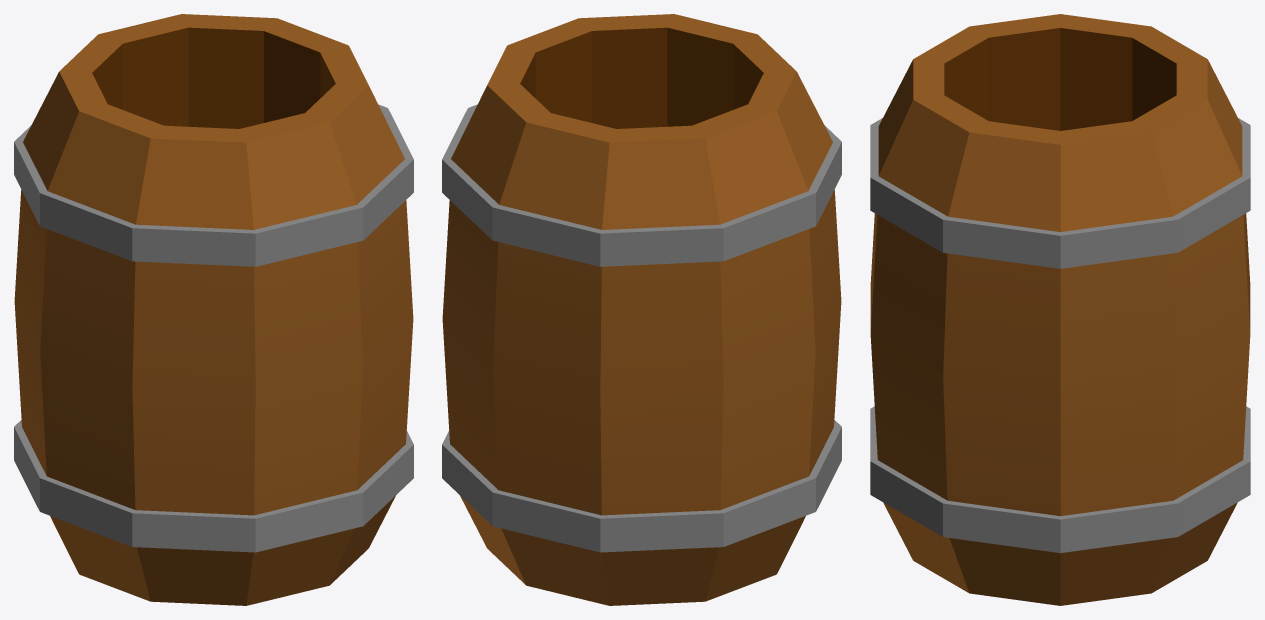
The model's file is Prop_Barrel_Empty_01.fbx.
3 views of the same model, side by side, from view 1: azimuth 30°, elevation 25°; view 2: azimuth 150°, elevation 25°; view 3: azimuth 270°, elevation 25° (orthographic).
Parts seen in each view (by area): view 1: Prop_Barrel_Empty_01; view 2: Prop_Barrel_Empty_01; view 3: Prop_Barrel_Empty_01.
Boxes of the visible parts, x1,y1,x2,y2 form: Prop_Barrel_Empty_01: (14,14,413,605); Prop_Barrel_Empty_01: (442,14,841,605); Prop_Barrel_Empty_01: (870,14,1250,605).
Size of the model in its own units: 29.1 by 37 by 27.68.
